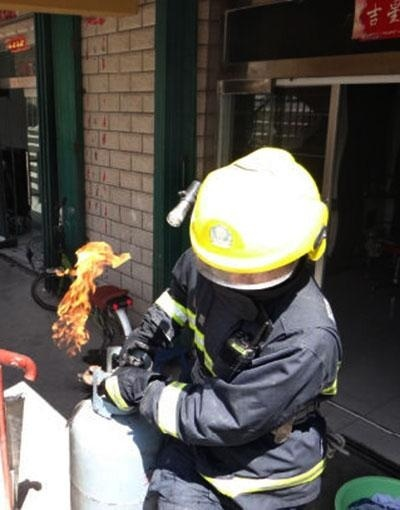fire: (52, 236, 131, 352)
